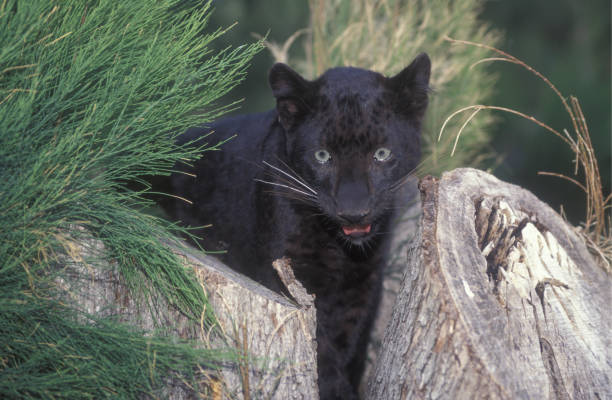panther: (255, 49, 442, 276)
